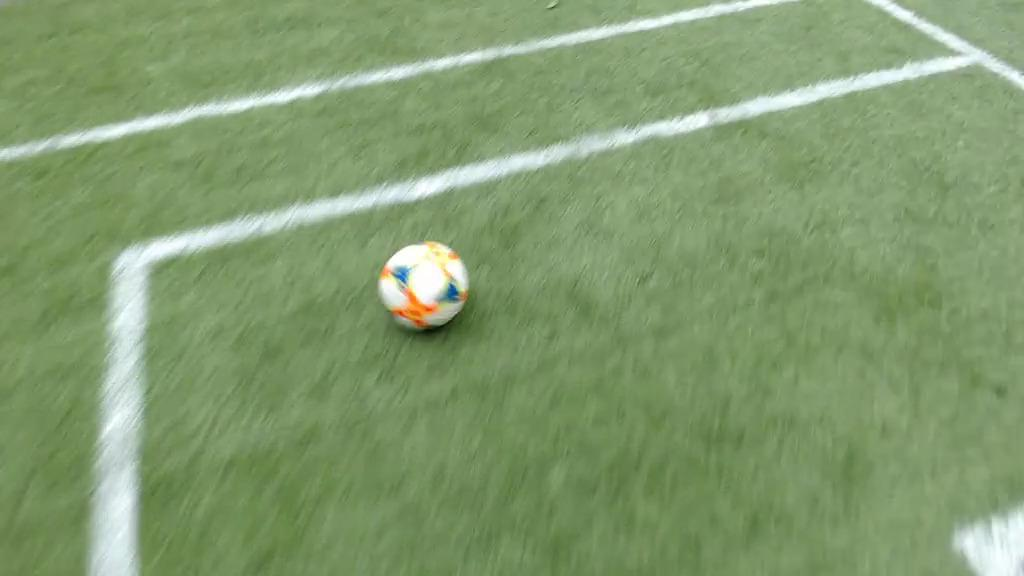ball: (380, 242, 468, 328)
